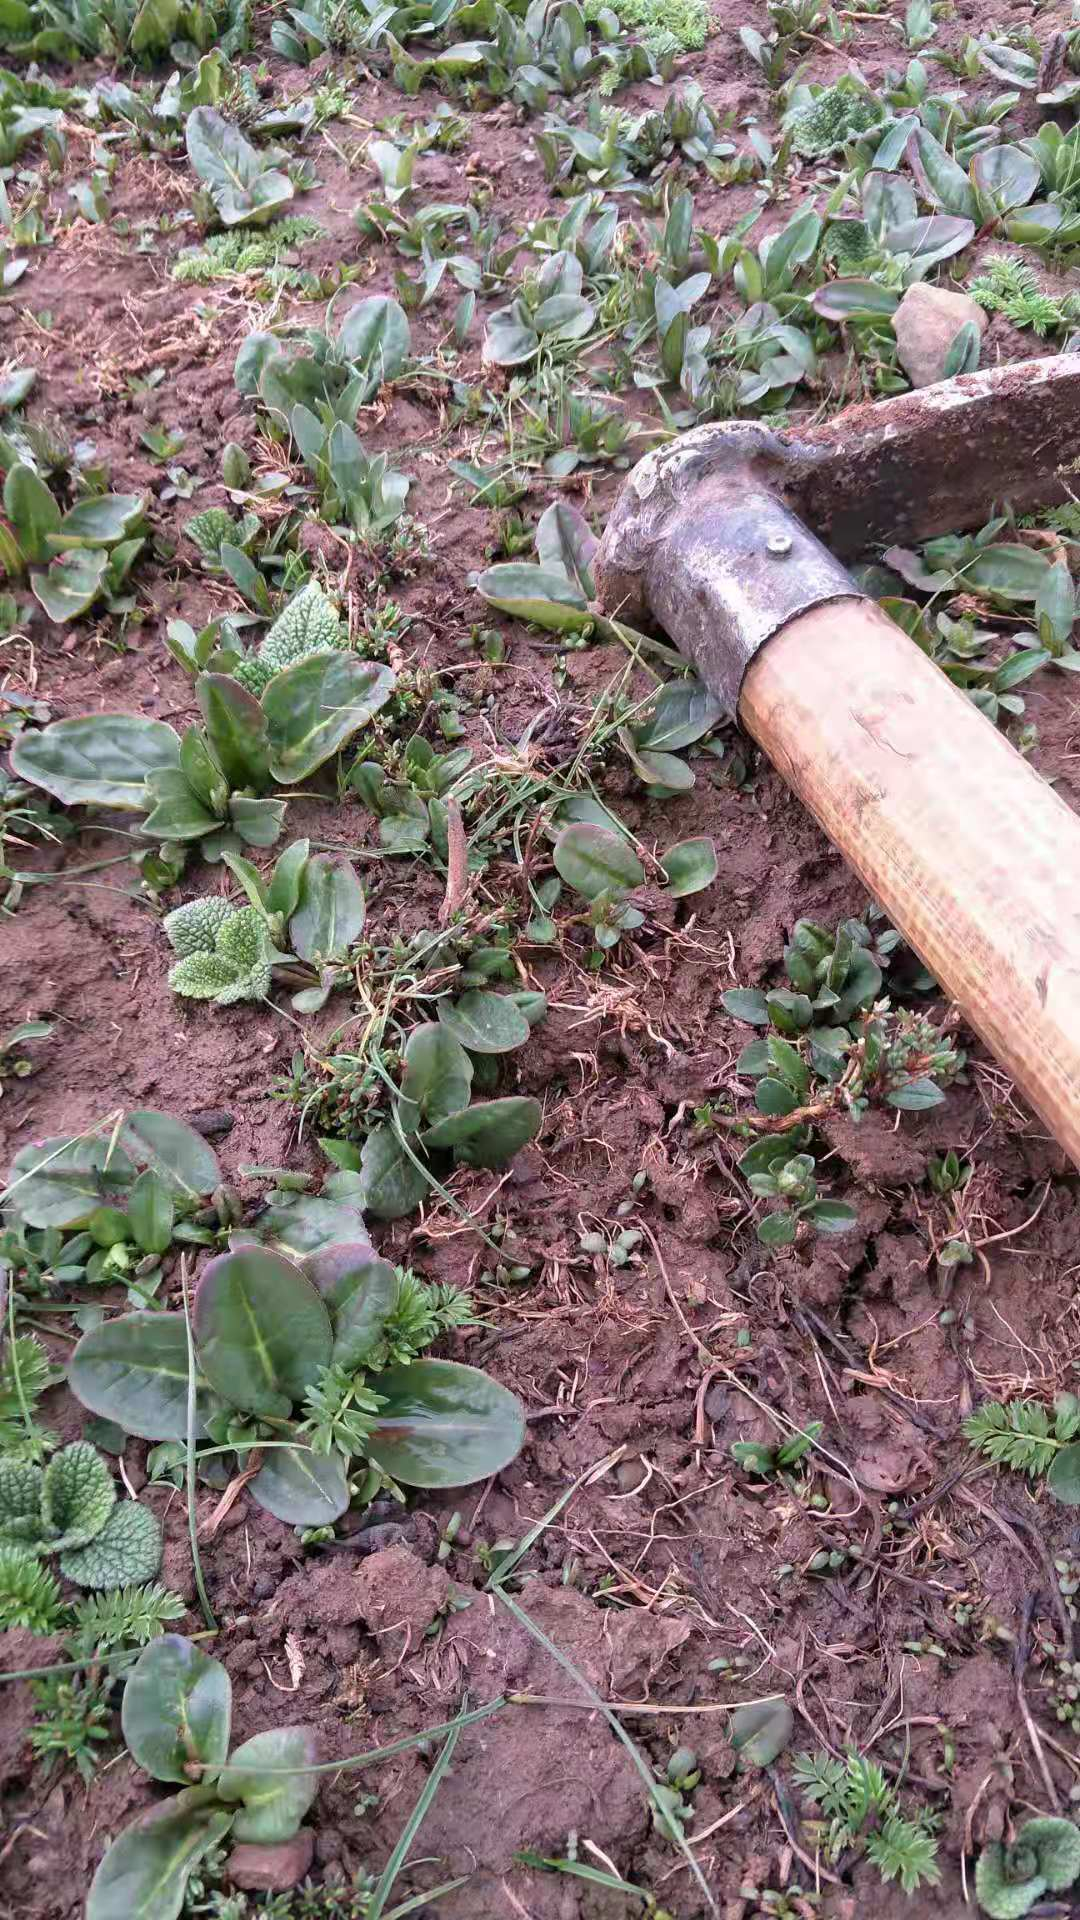cpf: (433, 790, 477, 932)
